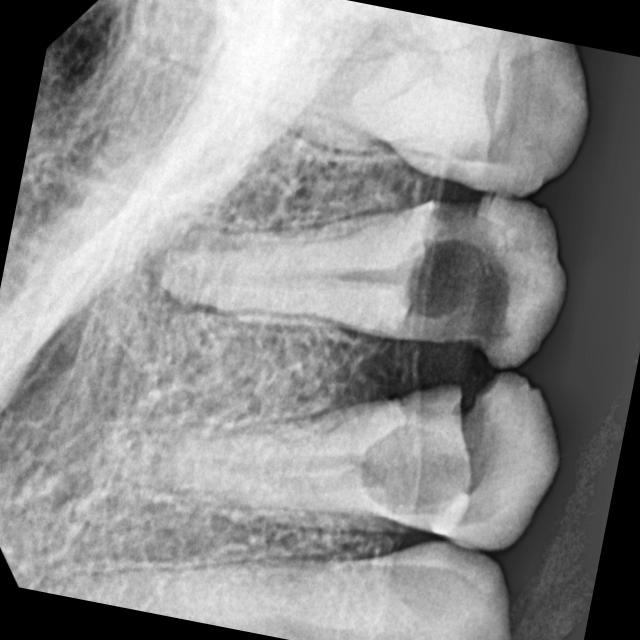Badly Decayed: (92, 285, 582, 640), (142, 128, 624, 388)
